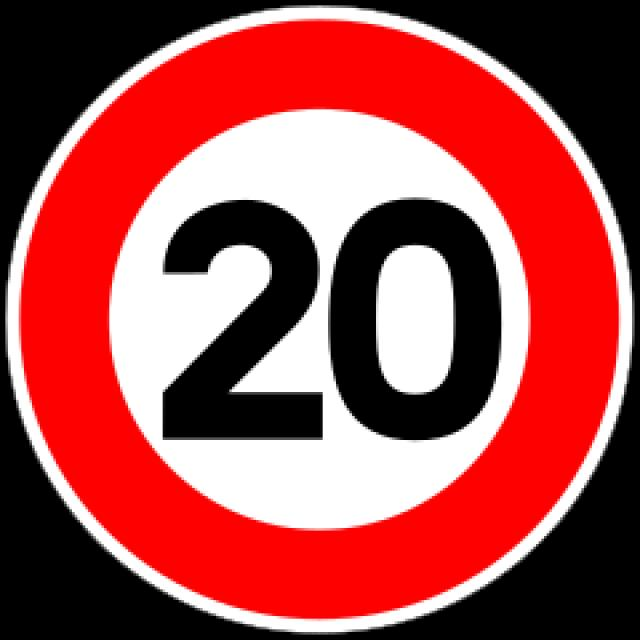Speed Limit -20-: (159, 192, 505, 450)
